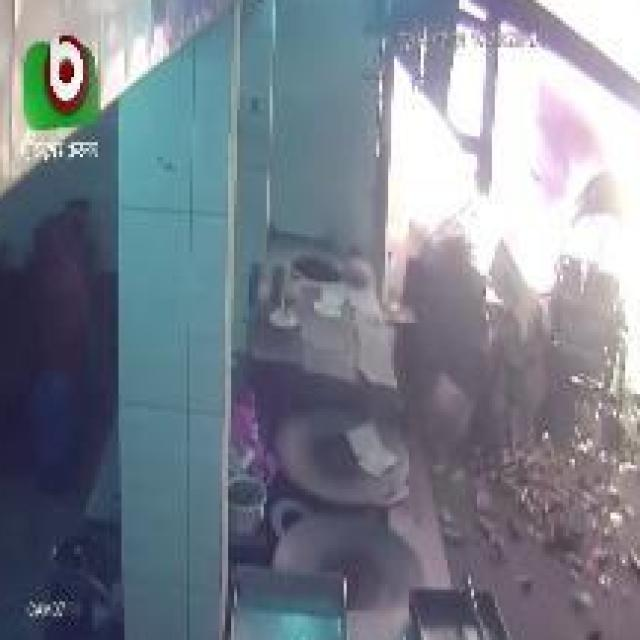smoke: (397, 27, 578, 308), (527, 0, 640, 409)
